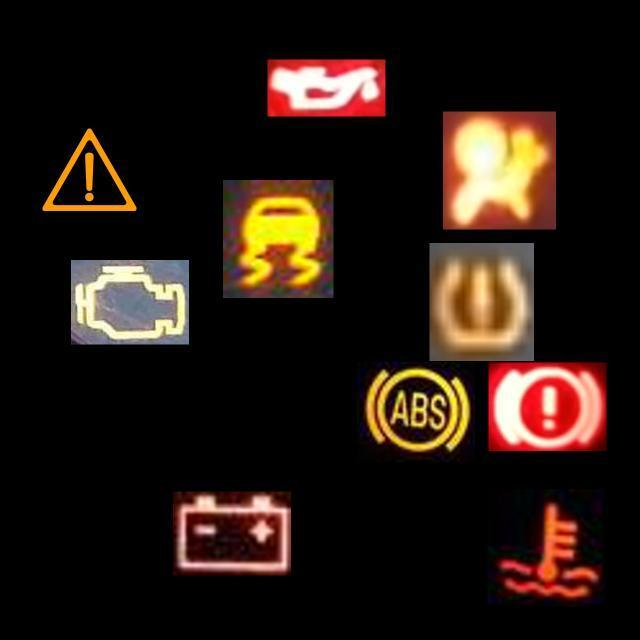Central Warning lamp: (30, 111, 148, 229)
Engine cooling system: (488, 489, 606, 607)
